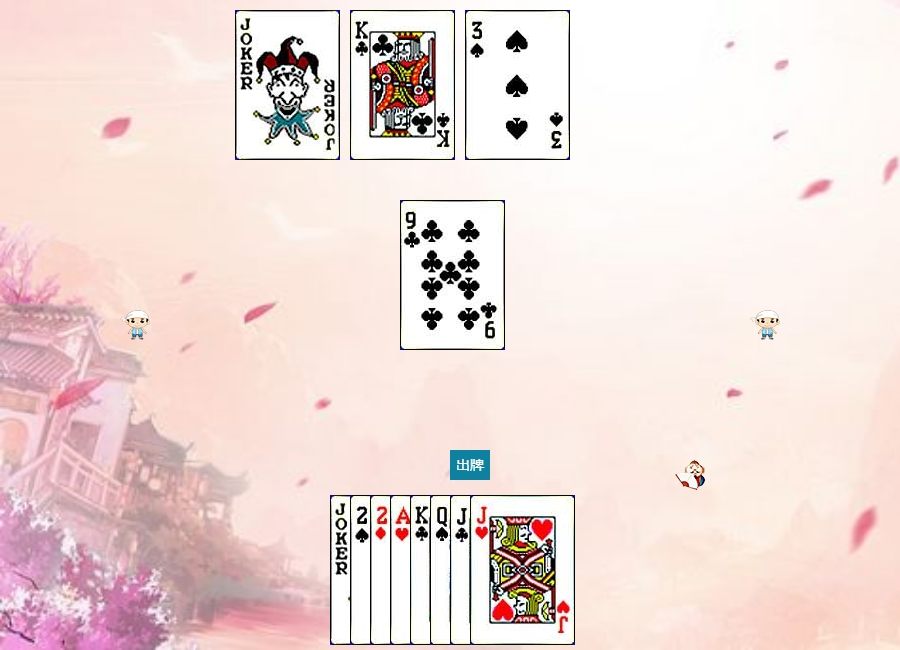11~2: (450, 495, 555, 645)
11~3: (470, 495, 575, 645)
12~4: (430, 495, 535, 645)
13~2: (350, 10, 455, 160), (410, 495, 515, 645)
14~3: (390, 495, 495, 645)
15~1: (370, 495, 475, 645)
15~4: (350, 495, 455, 645)
17~3: (235, 10, 340, 160), (330, 495, 435, 645)
3~4: (465, 10, 570, 160)
9~2: (400, 200, 505, 350)
